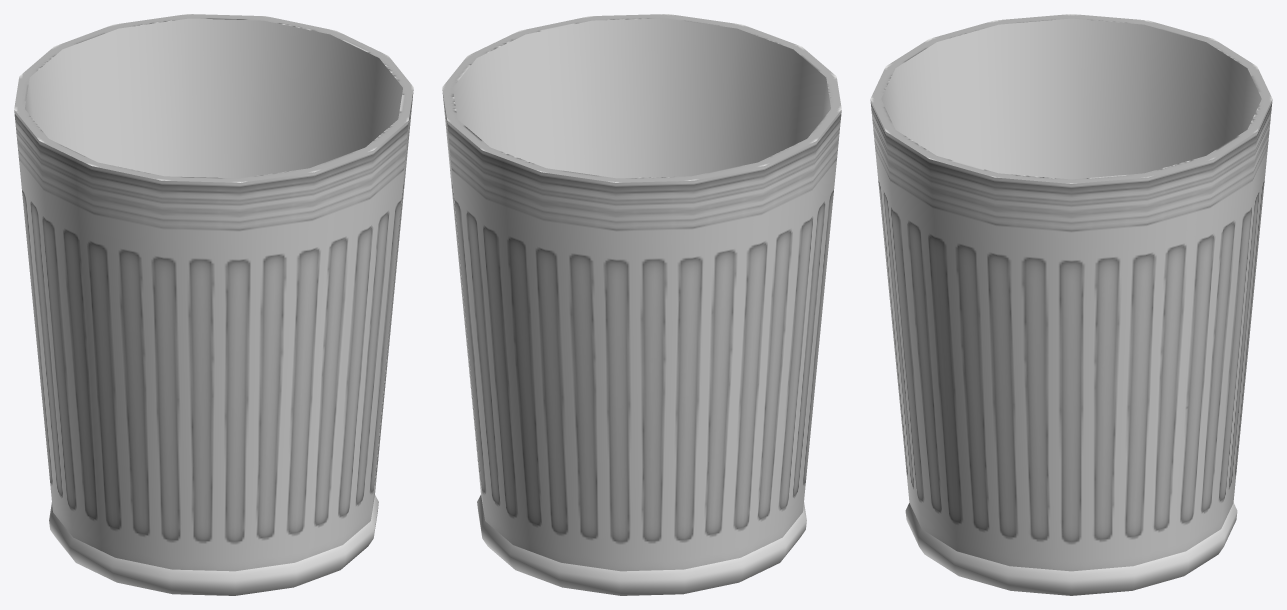
The model's file is Trashcan_Metal_Round_Low.fbx.
3 renders of one model, left to right at view 1: azimuth 30°, elevation 25°; view 2: azimuth 150°, elevation 25°; view 3: azimuth 270°, elevation 25°, orthographic.
Parts seen in each view (by area): view 1: Trashcan_Metal_Round_Low; view 2: Trashcan_Metal_Round_Low; view 3: Trashcan_Metal_Round_Low.
Part boxes in pixels (box(x1,y1,x2,y2)): Trashcan_Metal_Round_Low: box(14, 14, 413, 595); Trashcan_Metal_Round_Low: box(442, 14, 841, 595); Trashcan_Metal_Round_Low: box(870, 14, 1272, 595).
Size of the model in its own units: 101 by 119 by 101.
